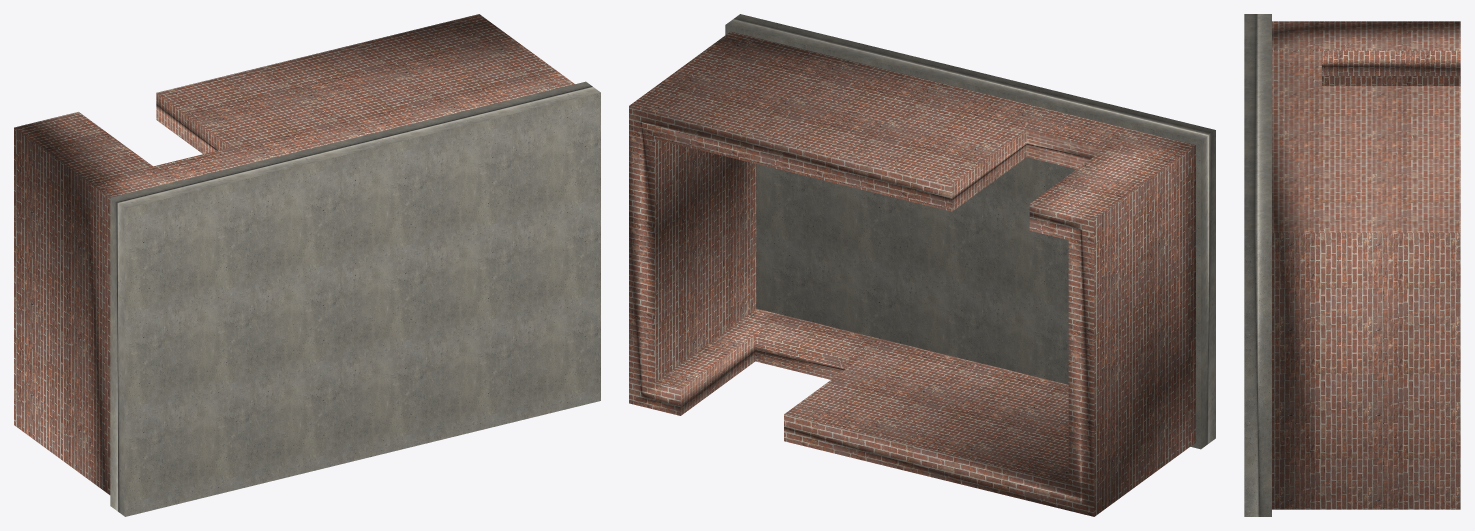
Rendered from house2.DAE.
The picture shows the model from 3 angles, left to right: view 1: azimuth 30°, elevation 25°; view 2: azimuth 150°, elevation 25°; view 3: azimuth 270°, elevation 25°; orthographic projection. The views are drawn at different scales.
Visible parts, largest first — view 1: adventureplaygound01a; view 2: adventureplaygound01a; view 3: adventureplaygound01a.
Part boxes in pixels (x1,y1,x2,y2): adventureplaygound01a: (14, 14, 600, 516); adventureplaygound01a: (629, 14, 1215, 516); adventureplaygound01a: (1244, 14, 1460, 516).
Bounding box in the file's own units: 362 × 224 × 154.
